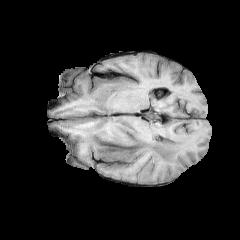glioma: (85, 119, 183, 167)
